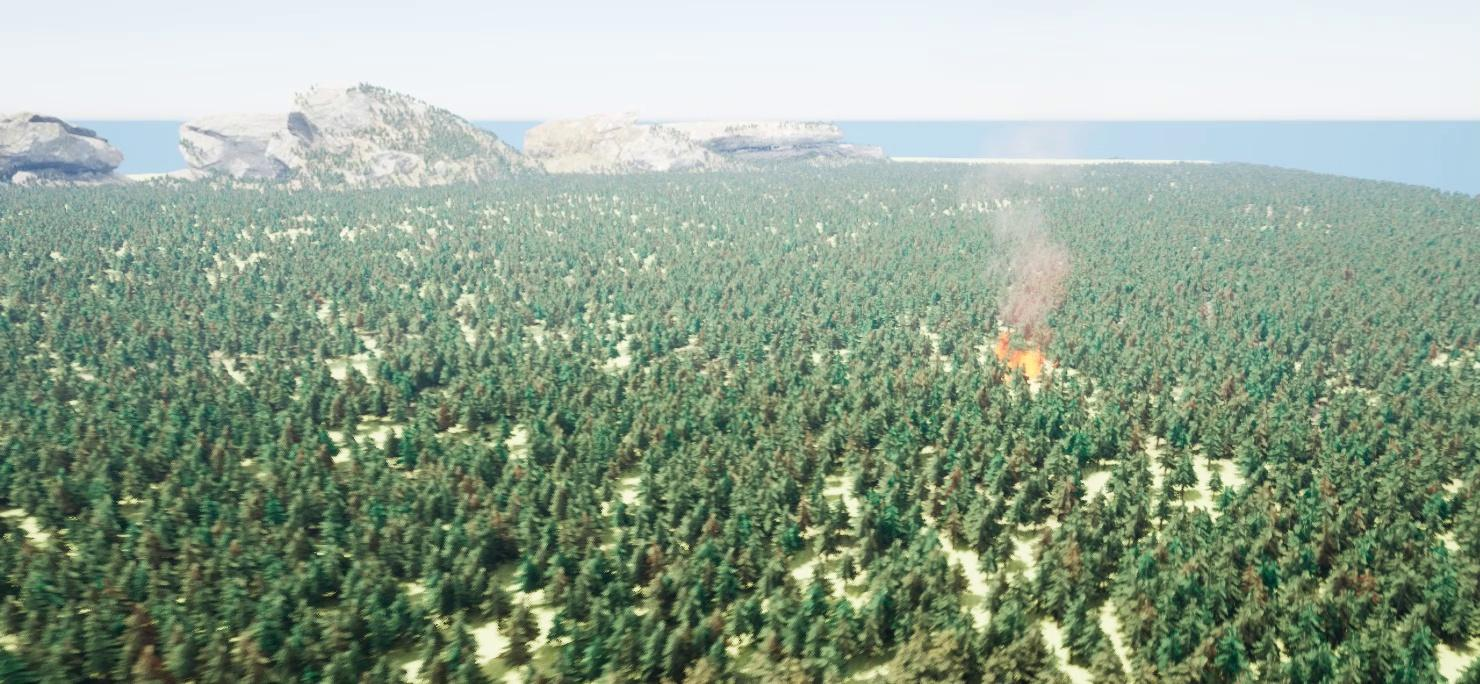fire: (994, 331, 1053, 374)
smoke: (961, 123, 1077, 325)
